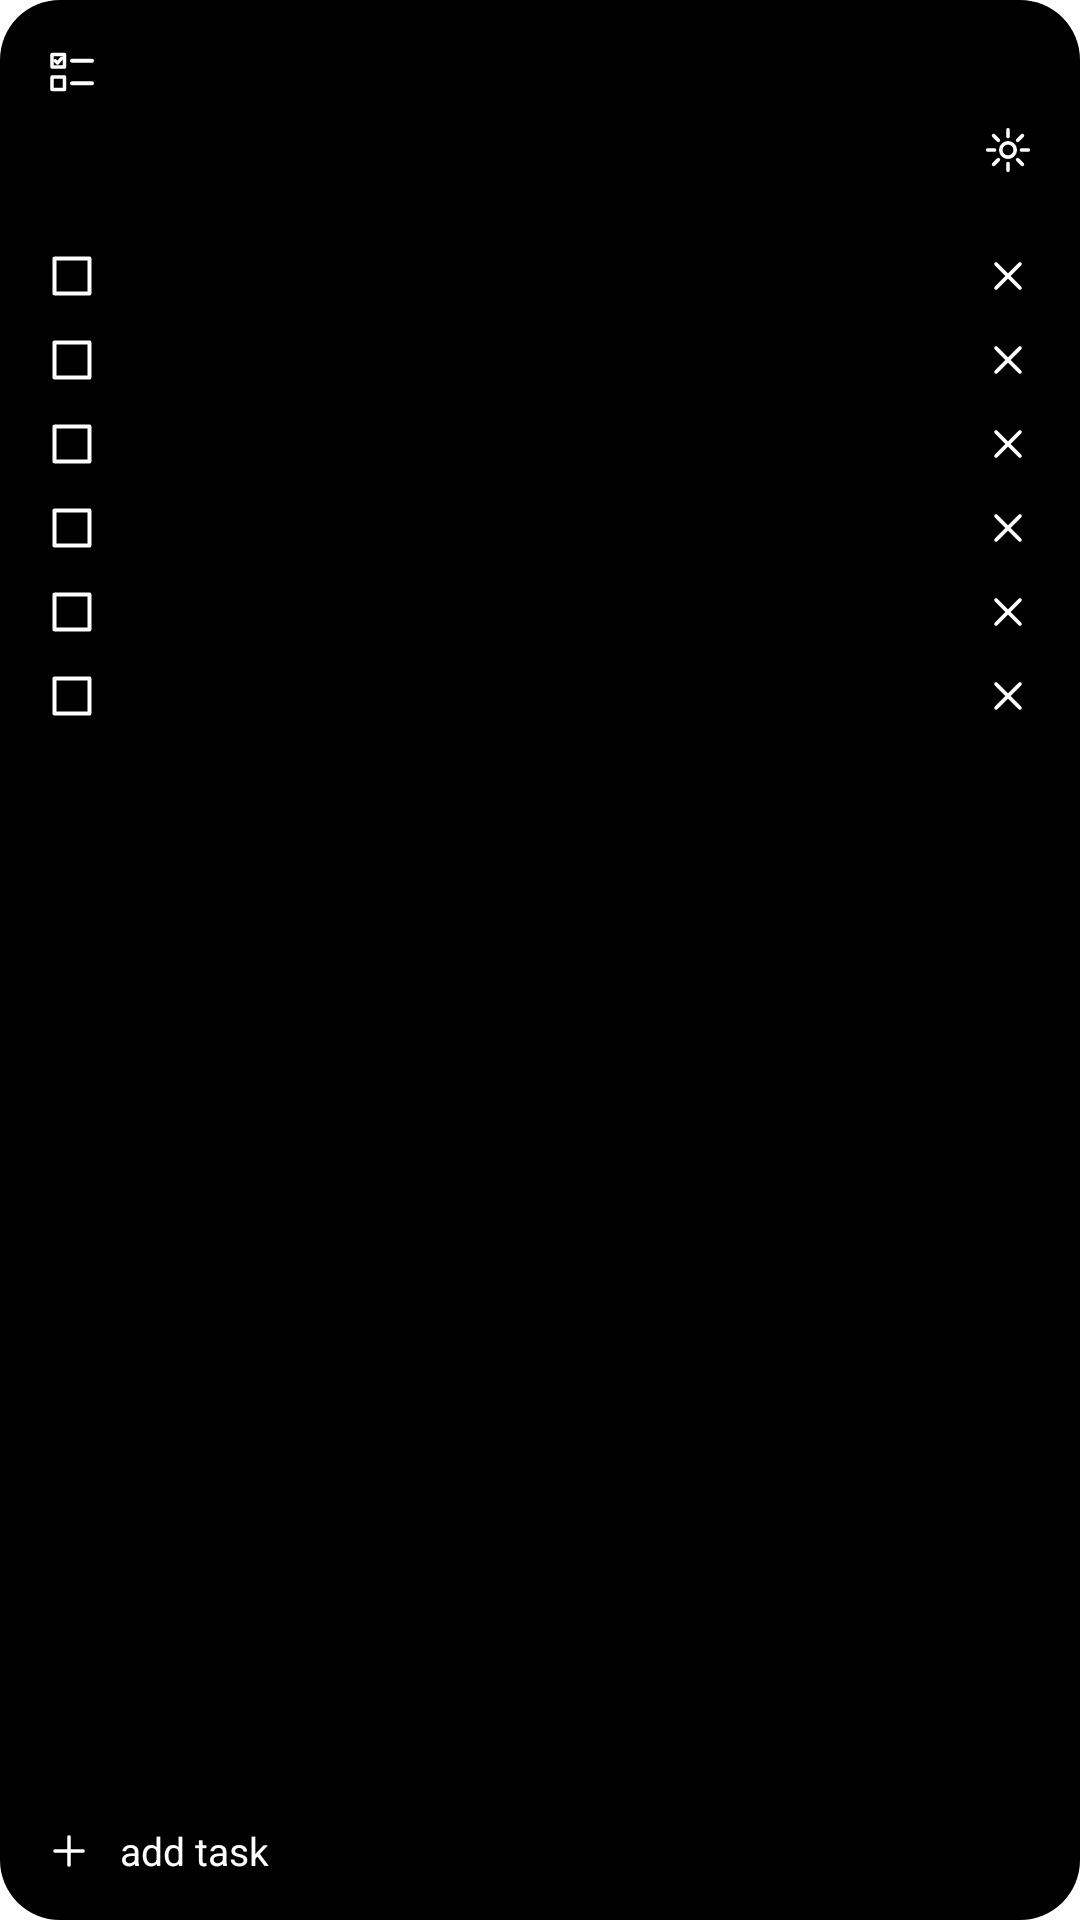

Where to tap for icons on this 1080px×1920px app screen, as point (x, y):
widget add: point (69, 1851)
widget checkbox unchecked: point (72, 276), point (72, 360), point (72, 444), point (72, 528), point (72, 612), point (72, 696)
widget delete: point (1008, 276), point (1008, 360), point (1008, 444), point (1008, 528), point (1008, 612), point (1008, 696)
widget tasks: point (72, 72)
